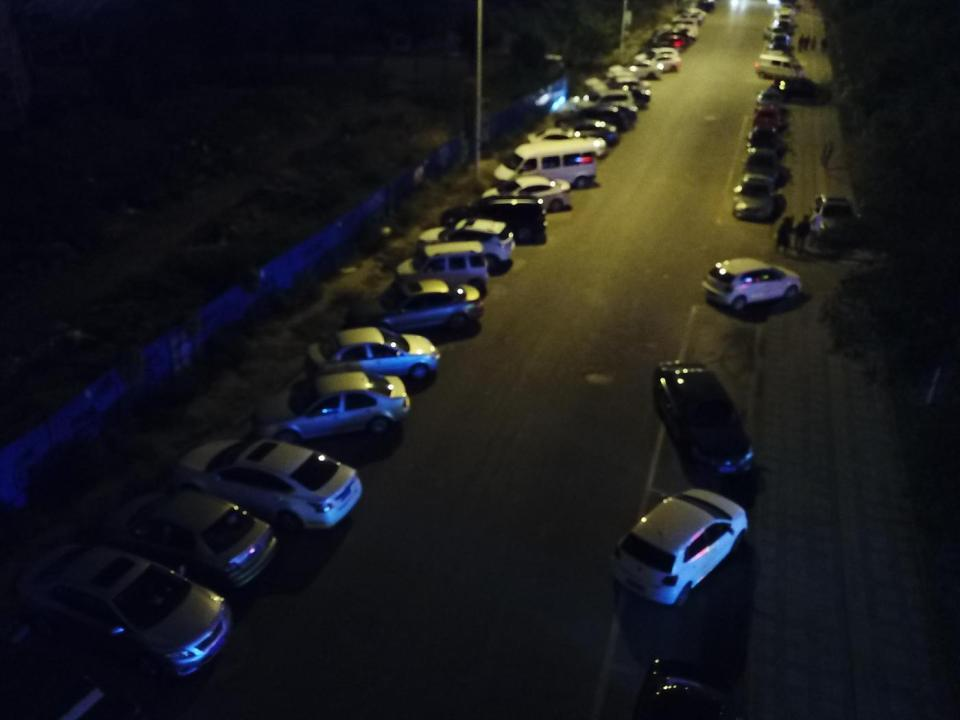car: (11, 537, 235, 678), (163, 432, 362, 531), (95, 488, 276, 592), (608, 486, 748, 607), (650, 360, 757, 482), (241, 372, 413, 445), (304, 328, 440, 389), (344, 282, 486, 332), (700, 255, 802, 314), (434, 196, 546, 246), (422, 217, 518, 269), (480, 176, 575, 213), (522, 128, 608, 162), (813, 191, 862, 246), (547, 120, 617, 153), (575, 87, 637, 123), (572, 102, 638, 133), (766, 74, 830, 105), (733, 172, 776, 216), (562, 109, 632, 132), (745, 142, 781, 182), (584, 71, 641, 94), (608, 60, 665, 82), (597, 78, 650, 100), (594, 85, 652, 104), (635, 54, 683, 76), (636, 47, 681, 70), (748, 124, 781, 152), (663, 16, 700, 40), (649, 32, 689, 54), (754, 104, 784, 132), (671, 7, 707, 27), (754, 87, 785, 110), (765, 24, 789, 41), (771, 19, 795, 35), (776, 6, 796, 25), (767, 40, 788, 57)
van: (490, 139, 597, 189), (398, 237, 490, 288), (755, 53, 804, 82)
